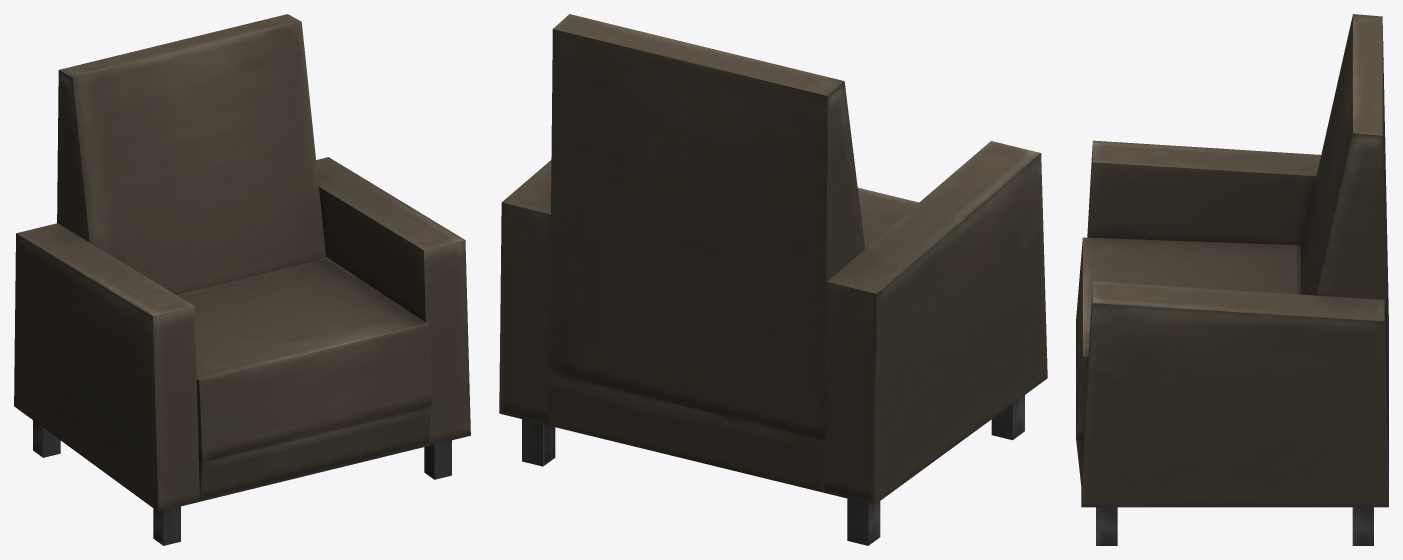
File: sofa_2.fbx
The picture shows the model from 3 angles, left to right: view 1: azimuth 30°, elevation 25°; view 2: azimuth 150°, elevation 25°; view 3: azimuth 270°, elevation 25°; orthographic projection. The views are drawn at different scales.
Visible parts, largest first — view 1: sofa_2_mesh; view 2: sofa_2_mesh; view 3: sofa_2_mesh.
Part boxes in pixels (x1,y1,x2,y2): sofa_2_mesh: (14, 14, 470, 545); sofa_2_mesh: (499, 14, 1047, 545); sofa_2_mesh: (1076, 14, 1388, 545).
Bounding box in the file's own units: 135 × 154 × 110.
